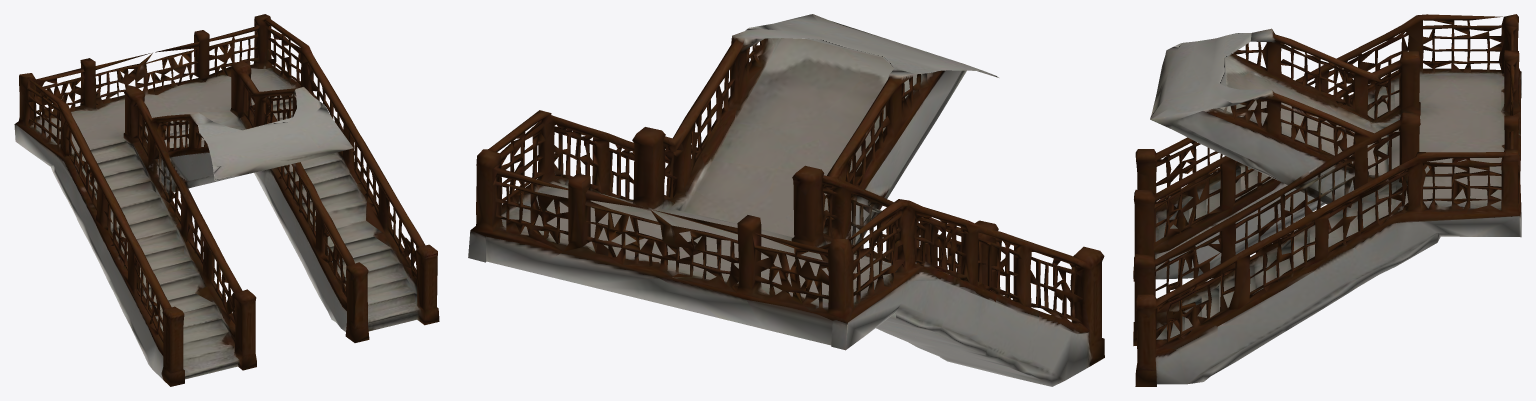
File: tangga_ballram.glb
3 renders of one model, left to right at view 1: azimuth 30°, elevation 25°; view 2: azimuth 150°, elevation 25°; view 3: azimuth 270°, elevation 25°, orthographic. The views are drawn at different scales.
Visible parts, largest first — view 1: tripo_node_c9c6ab6e-4869-40e3-a00f-3fa6b9000a74; view 2: tripo_node_c9c6ab6e-4869-40e3-a00f-3fa6b9000a74; view 3: tripo_node_c9c6ab6e-4869-40e3-a00f-3fa6b9000a74.
Part boxes in pixels (x1,y1,x2,y2): tripo_node_c9c6ab6e-4869-40e3-a00f-3fa6b9000a74: (14, 14, 439, 386); tripo_node_c9c6ab6e-4869-40e3-a00f-3fa6b9000a74: (468, 14, 1104, 386); tripo_node_c9c6ab6e-4869-40e3-a00f-3fa6b9000a74: (1133, 14, 1521, 386).
Size of the model in its own units: 0.9401 by 0.7074 by 1.
1 material, 1 textured.
